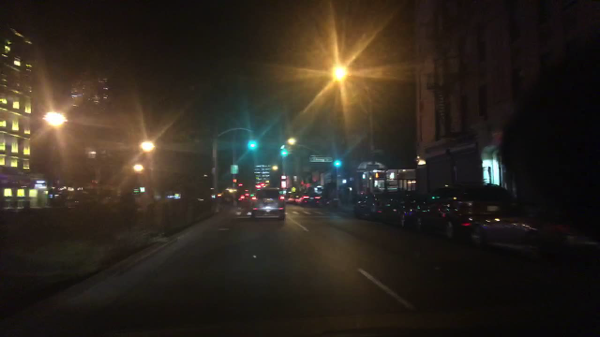car: (470, 198, 600, 269), (411, 184, 521, 242), (378, 191, 422, 228), (250, 187, 286, 224), (353, 195, 383, 218), (323, 196, 339, 210), (307, 195, 323, 205), (295, 195, 307, 206), (238, 191, 249, 203), (286, 194, 295, 203)
traffic light: (333, 159, 343, 171), (281, 150, 288, 161)
truck: (255, 164, 271, 178), (309, 155, 334, 163), (229, 164, 237, 175), (280, 175, 286, 182)
